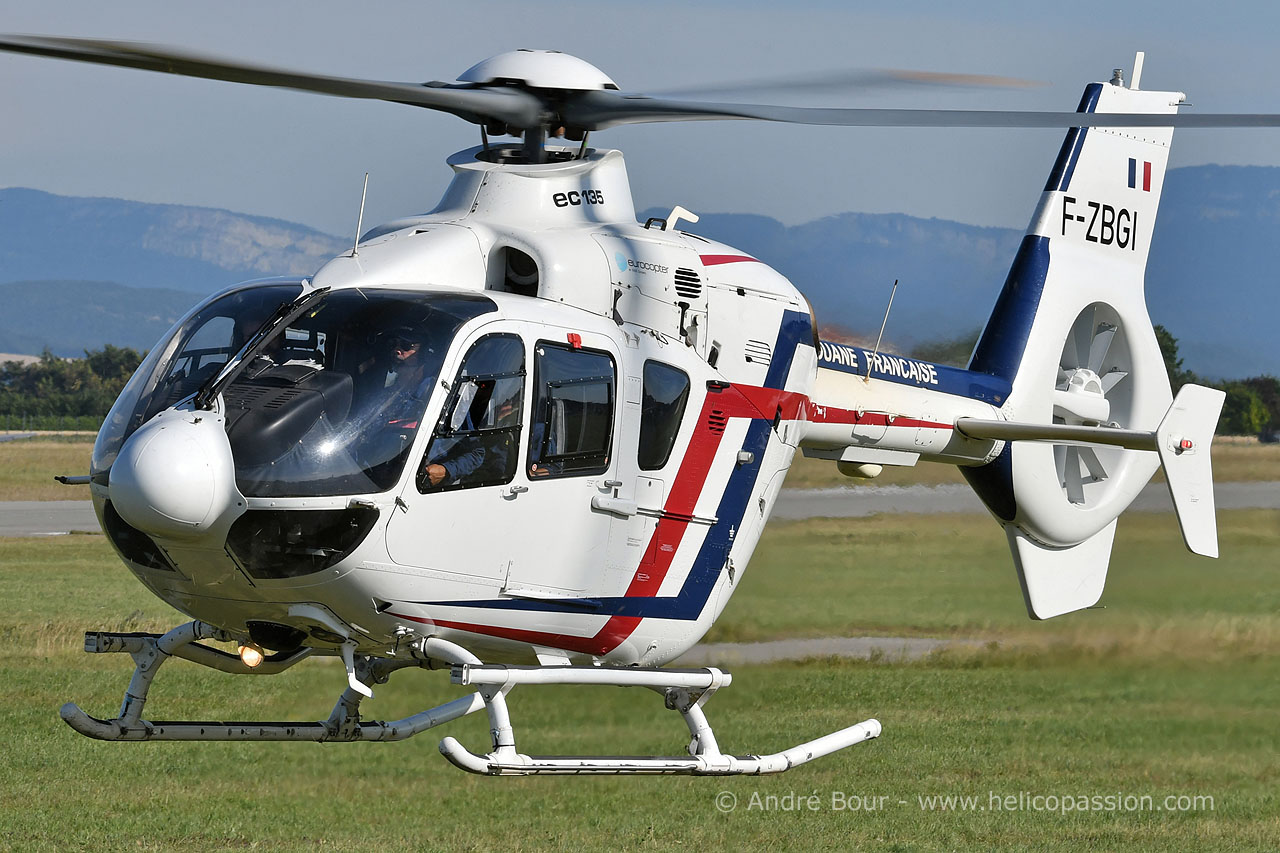Aeronef_de_service: (3, 24, 1280, 783)
